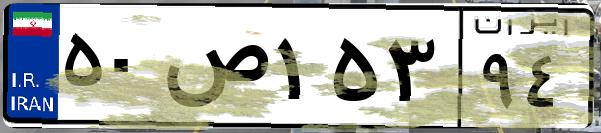0: (110, 28, 158, 98)
1: (270, 28, 330, 110)
3: (385, 28, 445, 110)
4: (525, 38, 570, 115)
5: (330, 28, 385, 110), (57, 26, 110, 100)
9: (475, 38, 525, 113)
ص: (158, 20, 270, 120)
